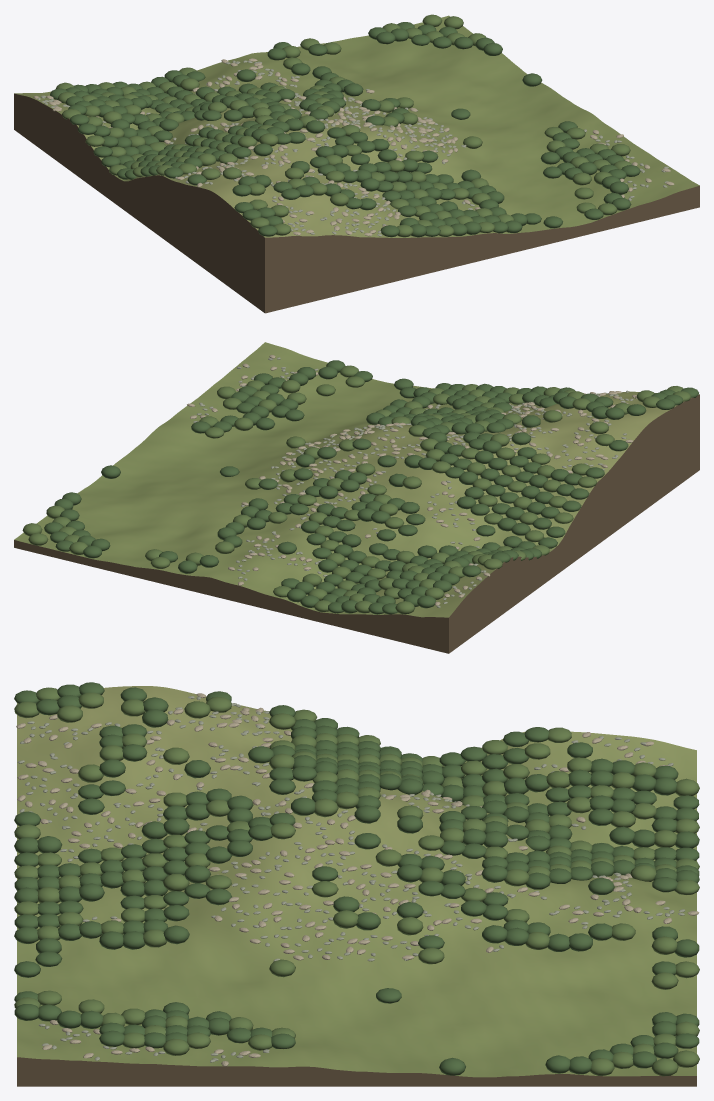
File: gms-12.glb
The picture shows the model from 3 angles, top to bottom: view 1: azimuth 30°, elevation 25°; view 2: azimuth 150°, elevation 25°; view 3: azimuth 270°, elevation 25°; orthographic projection. The views are drawn at different scales.
Parts seen in each view (by area): view 1: GMS-12 - estudio del paisaje; view 2: GMS-12 - estudio del paisaje; view 3: GMS-12 - estudio del paisaje.
Boxes of the visible parts, x1,y1,x2,y2 form: GMS-12 - estudio del paisaje: (14, 14, 699, 313); GMS-12 - estudio del paisaje: (14, 342, 699, 653); GMS-12 - estudio del paisaje: (14, 682, 699, 1086).
Bounding box in the file's own units: 12.1 × 2.4 × 12.1.
